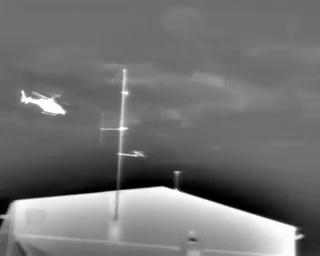HELICOPTER: (17, 83, 81, 124)
